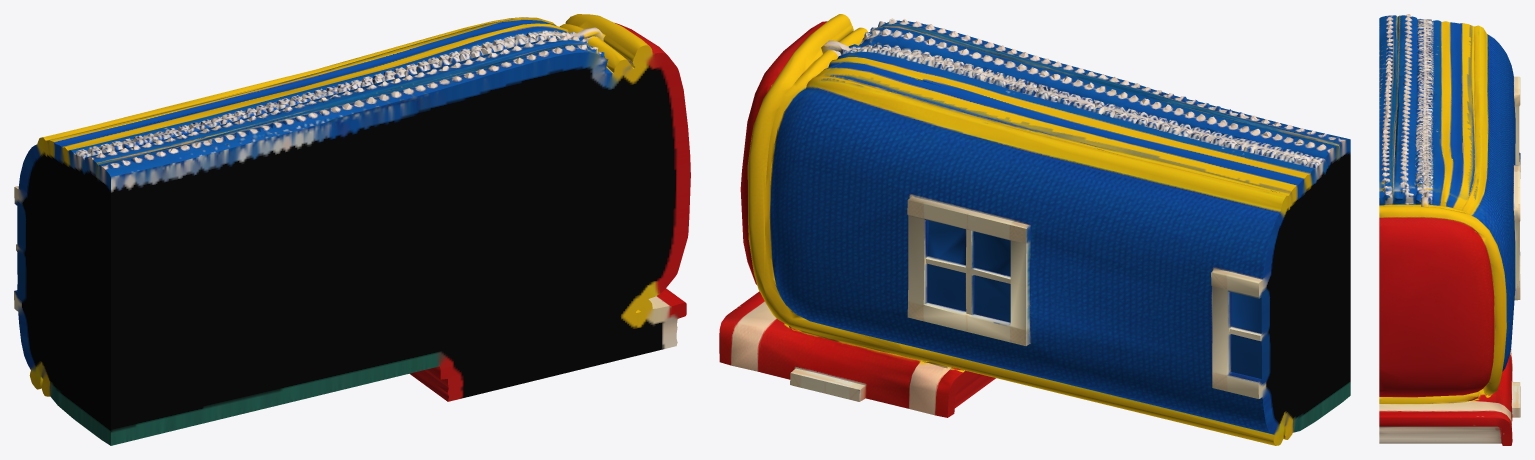
File: 16-topper-back-right.fbx
3 views of the same model, side by side, from view 1: azimuth 30°, elevation 25°; view 2: azimuth 150°, elevation 25°; view 3: azimuth 270°, elevation 25° (orthographic). The views are drawn at different scales.
Parts seen in each view (by area): view 1: topper-back-right; view 2: topper-back-right; view 3: topper-back-right.
Boxes of the visible parts, left/top/right/bottom form: topper-back-right: left=14, top=14, right=690, bottom=445; topper-back-right: left=719, top=14, right=1350, bottom=445; topper-back-right: left=1379, top=14, right=1520, bottom=445.
Size of the model in its own units: 9146 by 4863 by 2641.
Materials: 1 (1 with a texture image).
